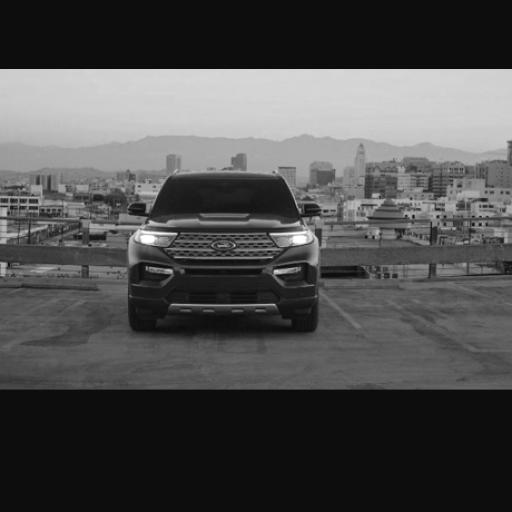car: (130, 201, 147, 215)
sedan: (130, 173, 322, 329)
